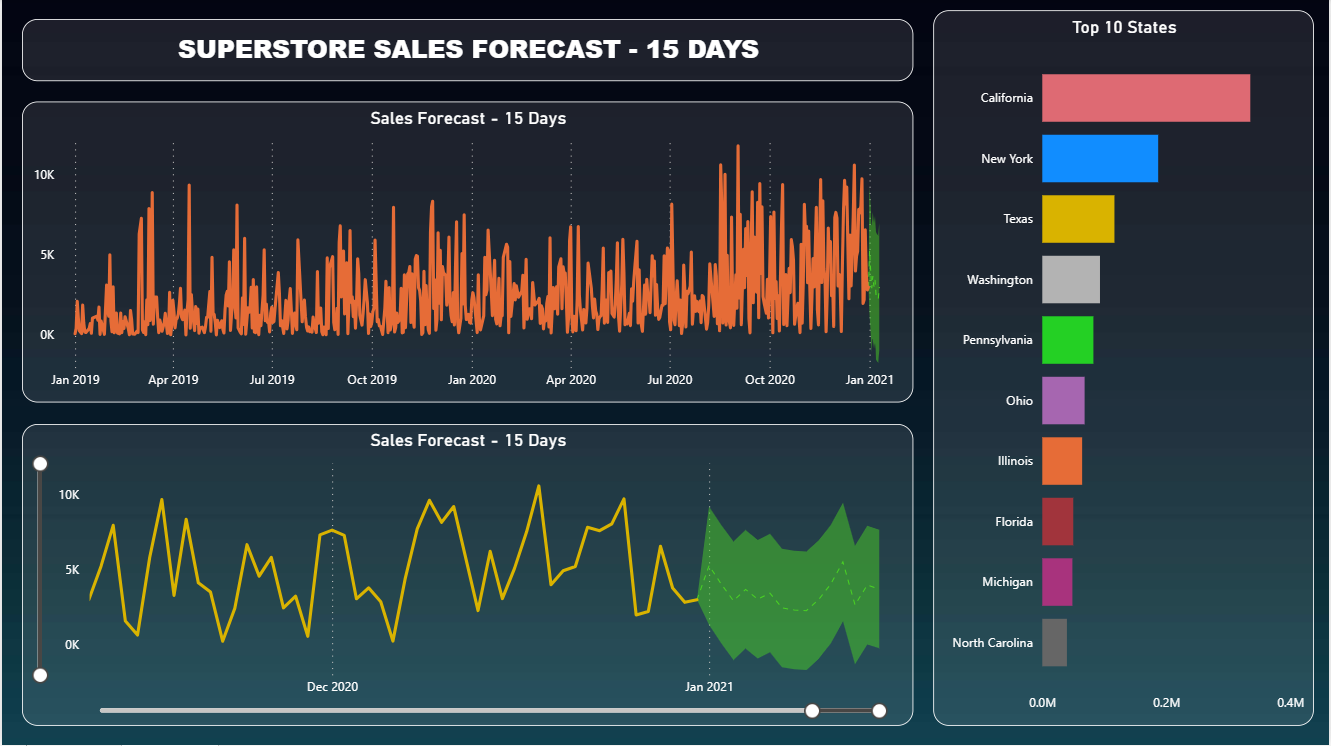

Layout of this report page (visuals, bound fields, positions):
{"tool":"powerbi","page":{"name":"Page 2","canvas":[1280,720],"ordinal":1},"visuals":[{"type":"lineChart","title":"Sales Forecast - 15 Days","fields":{"Y":["Sum(SuperStore_Sales_Dataset.Sales)"],"Category":["SuperStore_Sales_Dataset.Order Date"]},"box":[18.8,99.4,860,290],"z":0},{"type":"lineChart","title":"Sales Forecast - 15 Days","fields":{"Y":["Sum(SuperStore_Sales_Dataset.Sales)"],"Category":["SuperStore_Sales_Dataset.Order Date"]},"box":[18.8,410,860,291.2],"z":1000},{"type":"barChart","title":"Top 10 States","fields":{"Y":["Sum(SuperStore_Sales_Dataset.Sales)"],"Category":["SuperStore_Sales_Dataset.State"]},"box":[898.8,11.2,367.5,690],"z":2000},{"type":"textbox","box":[18.8,18.8,860,60],"z":3000}]}

Visuals, with their boxes in screenshot pixels (x1, y1, x2, y2), scaled from the page's 1280x720 canvas onto the 1331x746 screenshot:
"Sales Forecast - 15 Days" lineChart: 20/103/914/403
"Sales Forecast - 15 Days" lineChart: 20/425/914/727
"Top 10 States" barChart: 935/12/1317/727
textbox: 20/19/914/82
